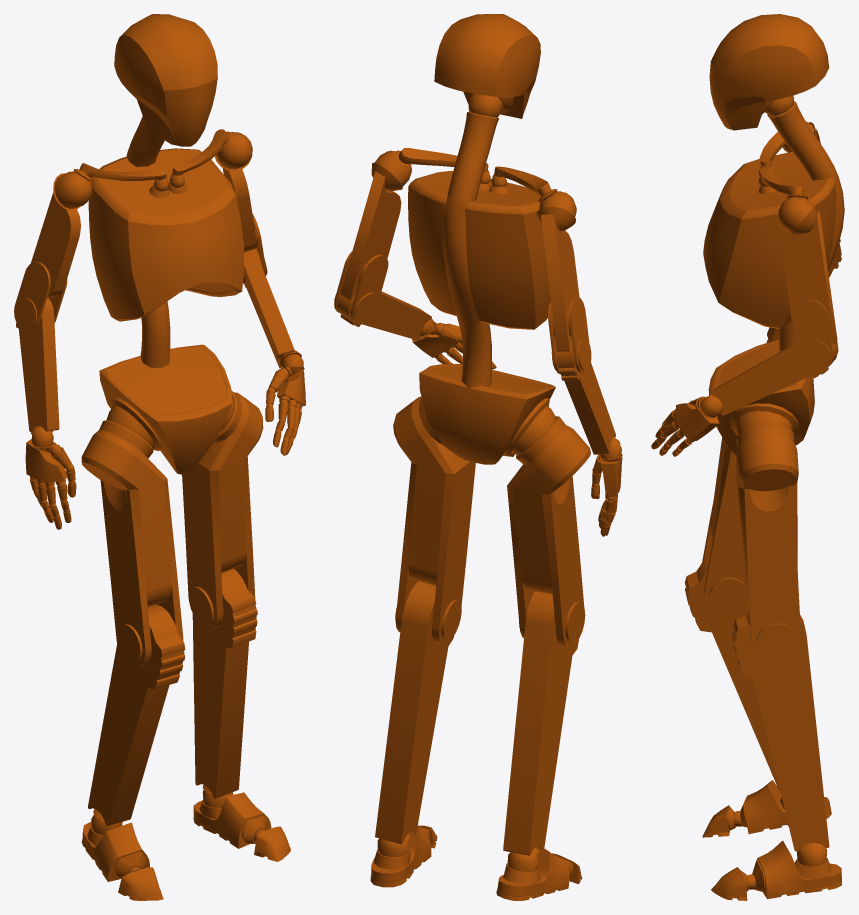
File: RobotAnimacja_000032.obj
3 views of the same model, side by side, from view 1: azimuth 30°, elevation 25°; view 2: azimuth 150°, elevation 25°; view 3: azimuth 270°, elevation 25° (orthographic). The views are drawn at different scales.
Parts seen in each view (by area): view 1: free3dmodel.001; view 2: free3dmodel.001; view 3: free3dmodel.001.
Part boxes in pixels (x1,y1,x2,y2): free3dmodel.001: (14, 14, 305, 900); free3dmodel.001: (334, 14, 622, 900); free3dmodel.001: (651, 14, 844, 900).
Size of the model in its own units: 1.9 by 6.05 by 1.27.
